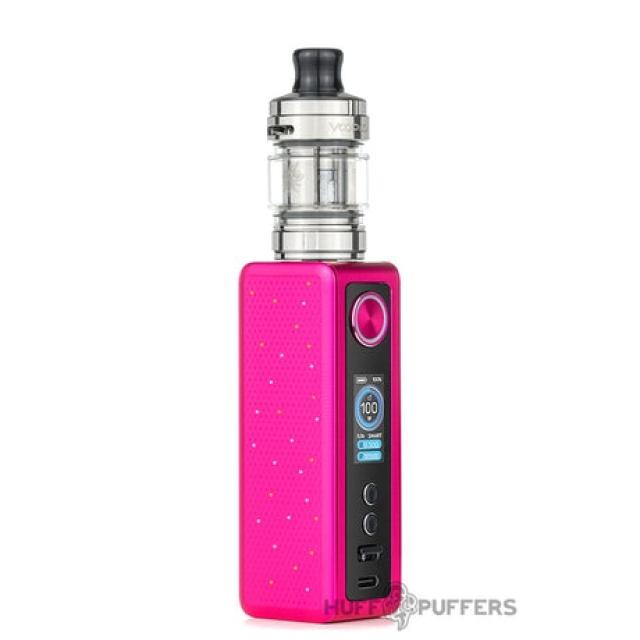Vapes: (239, 49, 401, 622)
